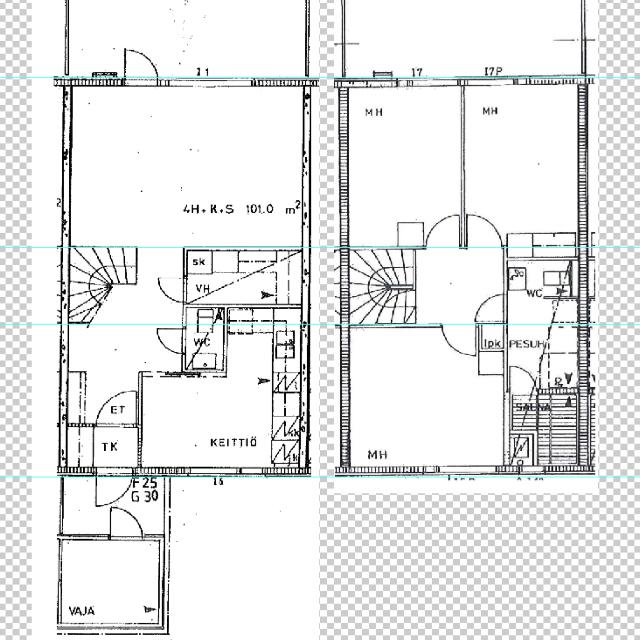door: (96, 389, 135, 427), (97, 468, 133, 509), (124, 46, 158, 85), (110, 502, 144, 540), (443, 325, 476, 359), (468, 217, 501, 250), (426, 218, 458, 250), (154, 328, 187, 354), (474, 295, 507, 321), (510, 362, 536, 393), (156, 277, 187, 302)
